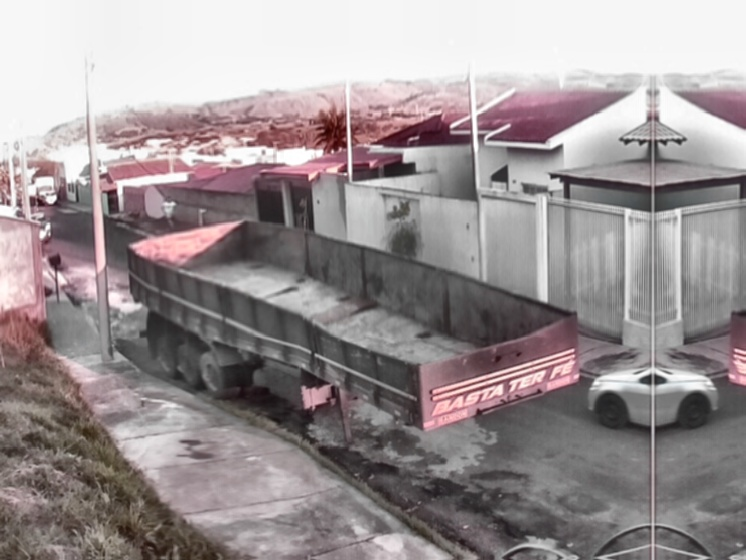person: (160, 196, 179, 230)
